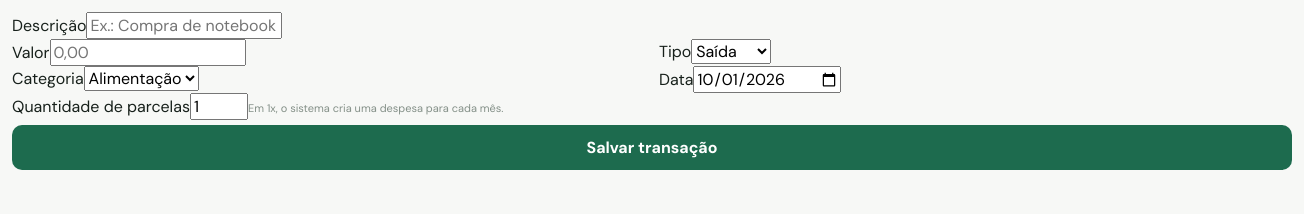
Scenario: TransactionForm — nova transação › mostra erro e não envia quando o valor não é maior que zero
In the field labelled "Descrição": (184, 26) [86, 12, 282, 39], type "Mercado"
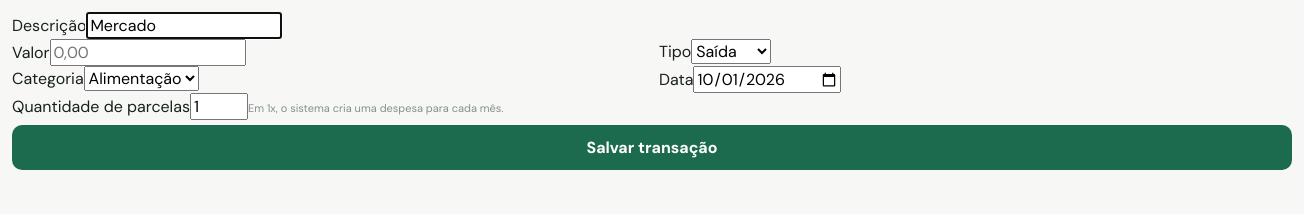
In the number field labelled "Valor": (148, 52) [50, 39, 246, 66], type "0"
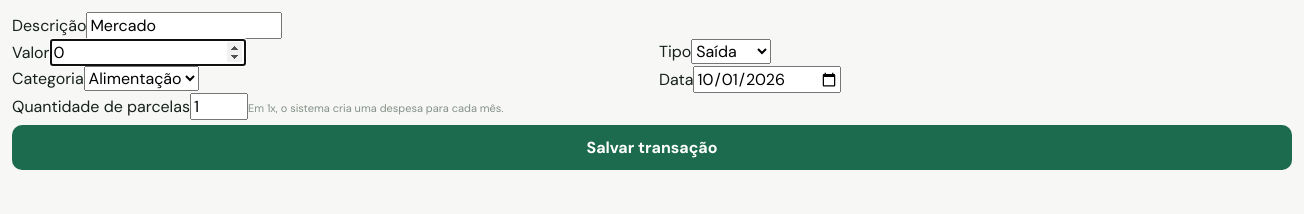
Click the button "Salvar transação": (652, 148) [12, 125, 1292, 170]
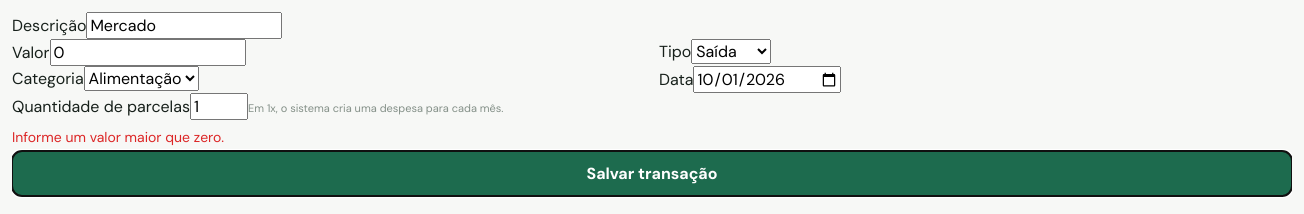
Now the message reads "Informe um valor maior que zero.", box [12, 128, 224, 146]
